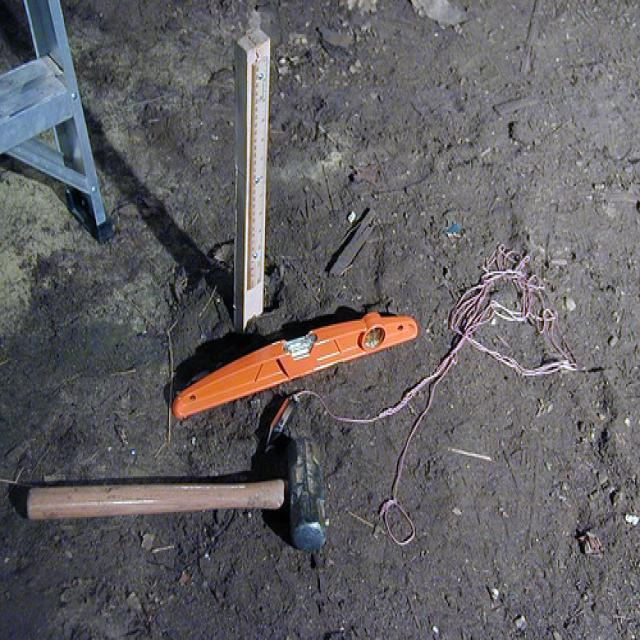hammer: (19, 422, 340, 570)
